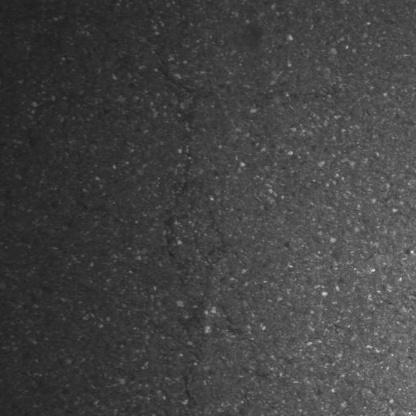Cracks: (151, 41, 203, 263), (190, 207, 234, 314), (176, 346, 204, 416)
